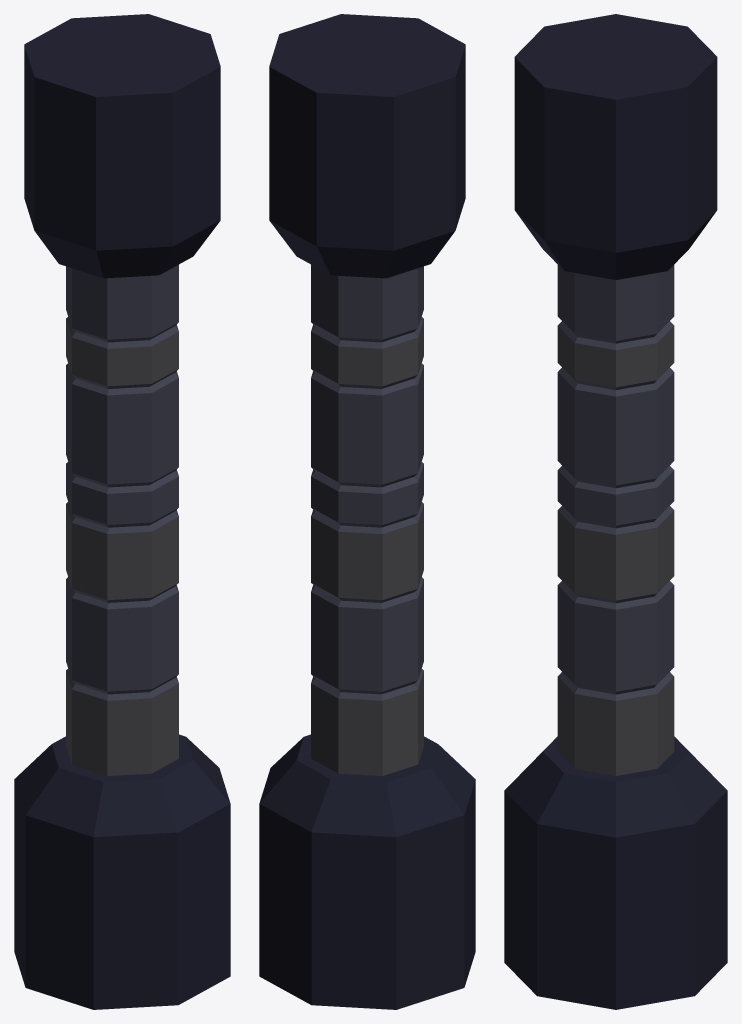
File: Pillar_Large.fbx
3 renders of one model, left to right at view 1: azimuth 30°, elevation 25°; view 2: azimuth 150°, elevation 25°; view 3: azimuth 270°, elevation 25°, orthographic.
Parts seen in each view (by area): view 1: 1-Pillar_Large; view 2: 1-Pillar_Large; view 3: 1-Pillar_Large.
Boxes of the visible parts, bbox=[...] form: 1-Pillar_Large: bbox=[14, 14, 230, 1009]; 1-Pillar_Large: bbox=[259, 14, 475, 1009]; 1-Pillar_Large: bbox=[504, 14, 727, 1009].
Bounding box in the file's own units: 1.34 × 1.34 × 6.
